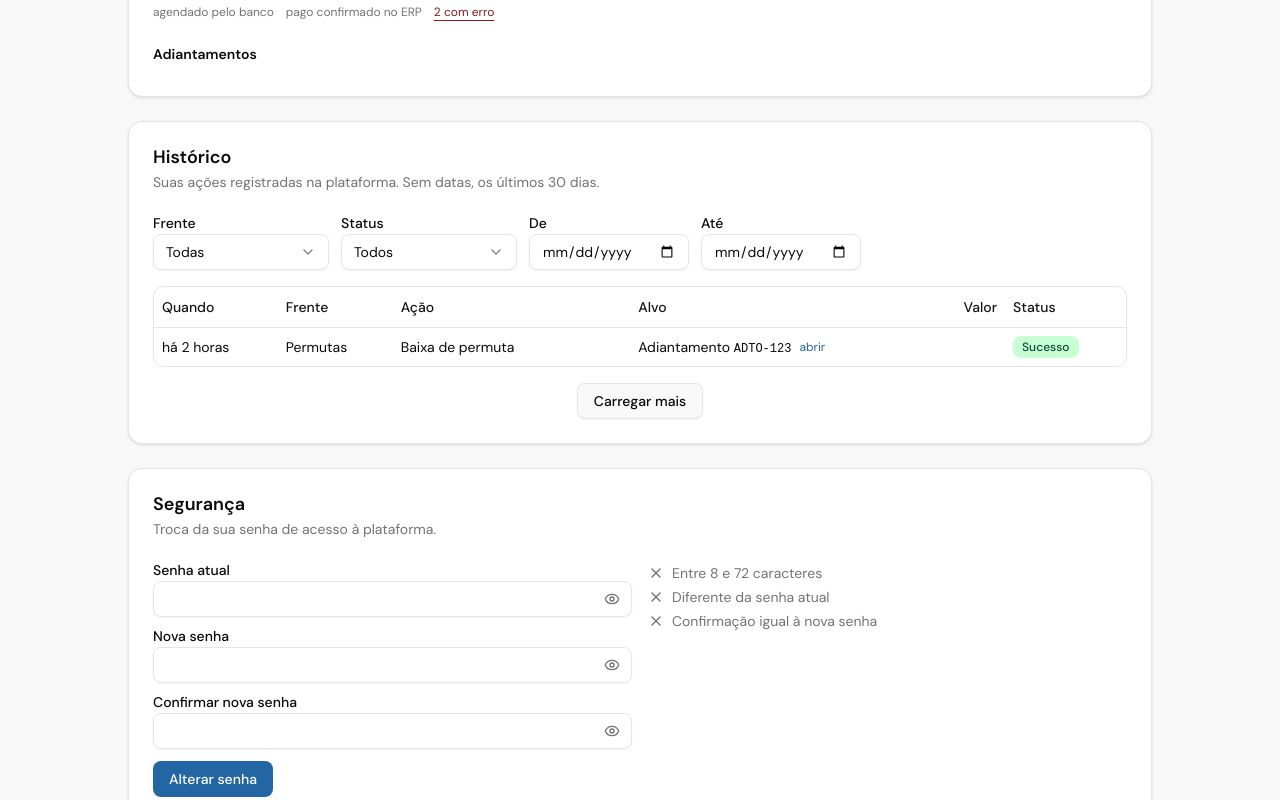
it: /perfil — Histórico › "Carregar mais" usa o cursor opaco e some quando não há próximo
(page scrolled)
Click the button "Carregar mais".
click(640, 400)  # box x1=577 y1=382 x2=703 y2=418
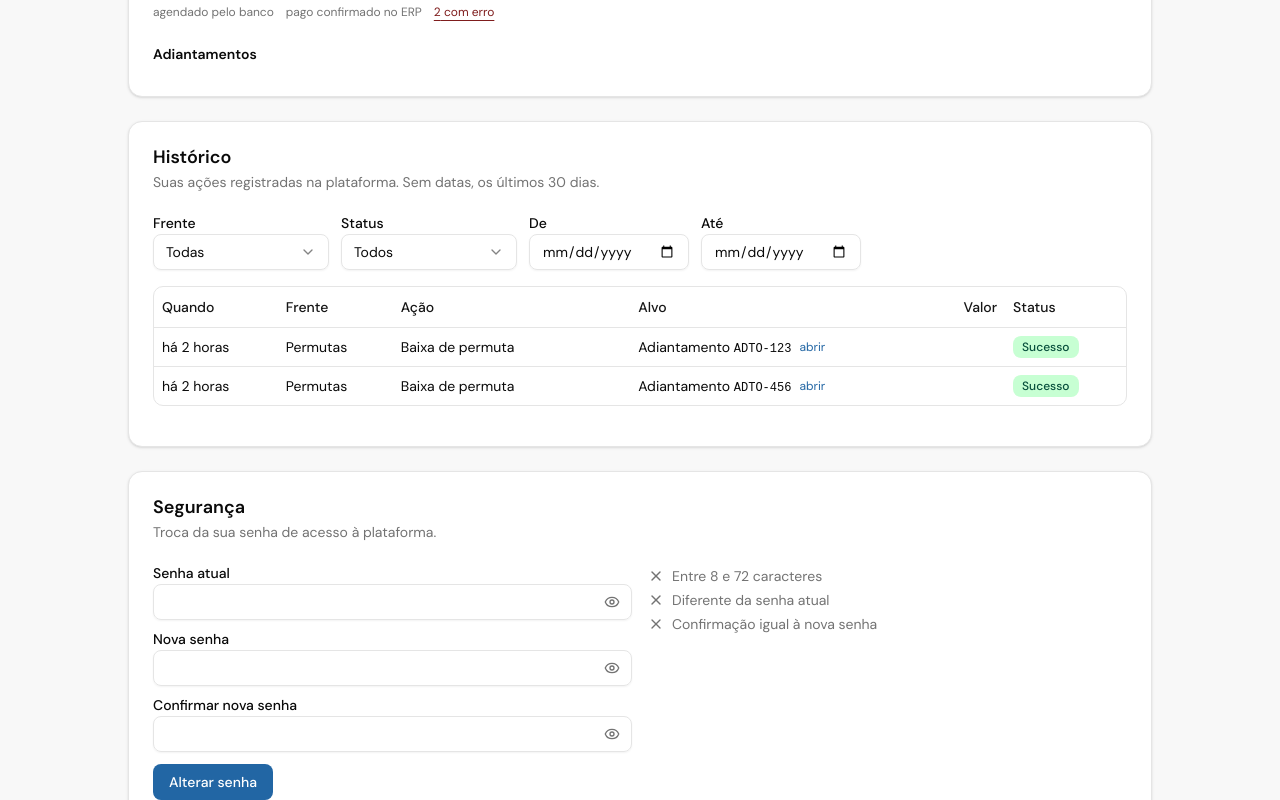
Check: the text "ADTO-456" is shown, box x1=734 y1=380 x2=791 y2=394
Check: the button "Carregar mais" is gone
